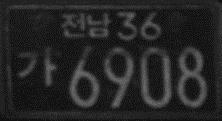0: (139, 46, 173, 108)
3: (116, 9, 137, 42)
6: (68, 43, 101, 107), (140, 10, 161, 41)
8: (178, 45, 207, 107)
9: (102, 44, 135, 108)
가: (16, 44, 56, 86)
전남_O: (60, 10, 111, 40)
